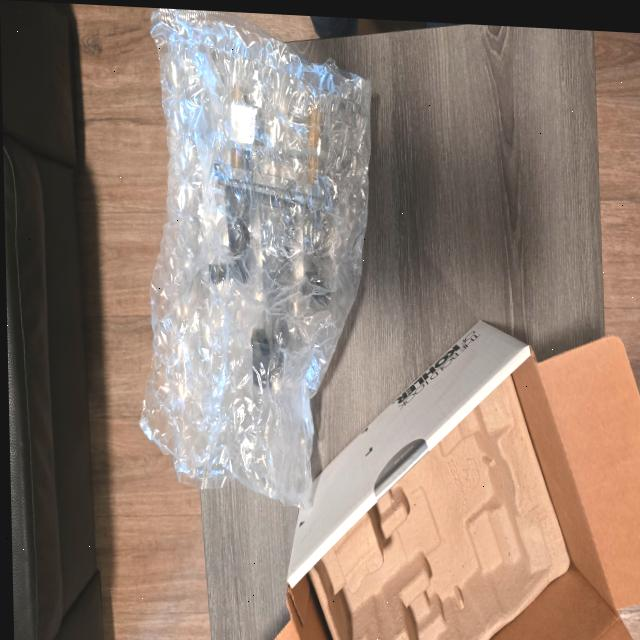9c: (142, 9, 371, 506)
